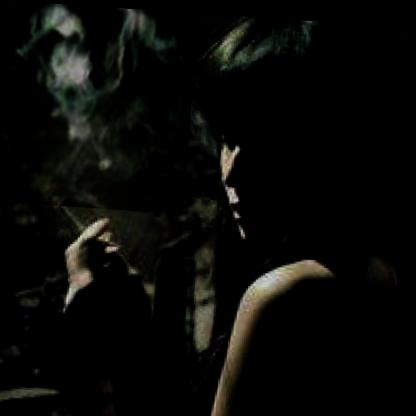smoke: (9, 1, 198, 211)
